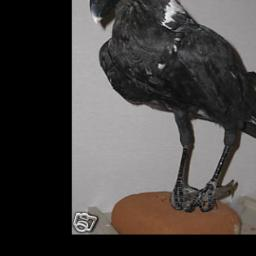Crow: (86, 0, 256, 214)
